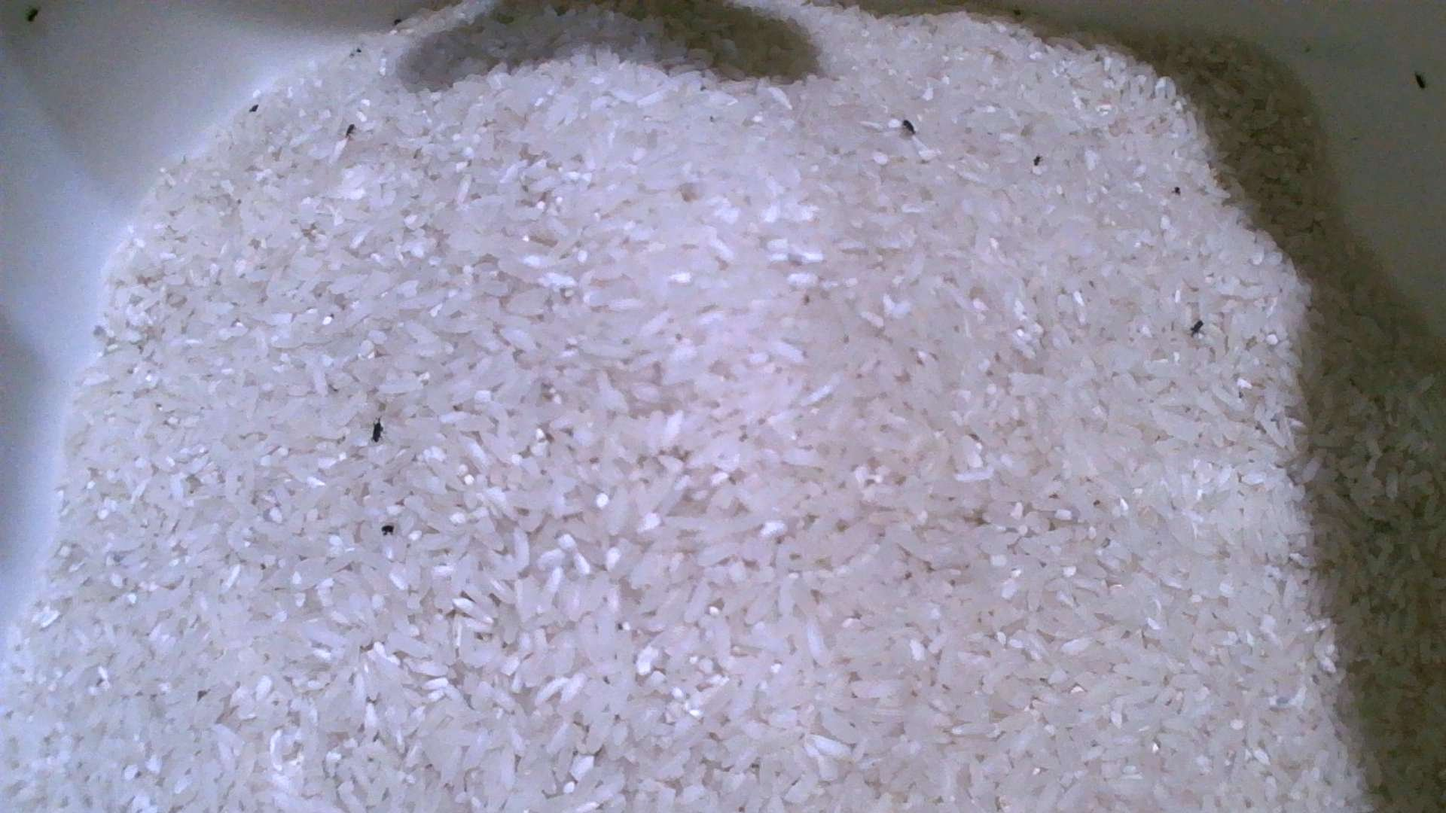Sitophilus-Oryzae: (371, 419, 383, 442), (901, 120, 916, 136), (24, 6, 39, 21), (1414, 72, 1426, 89), (1190, 320, 1203, 335), (344, 123, 355, 138)
